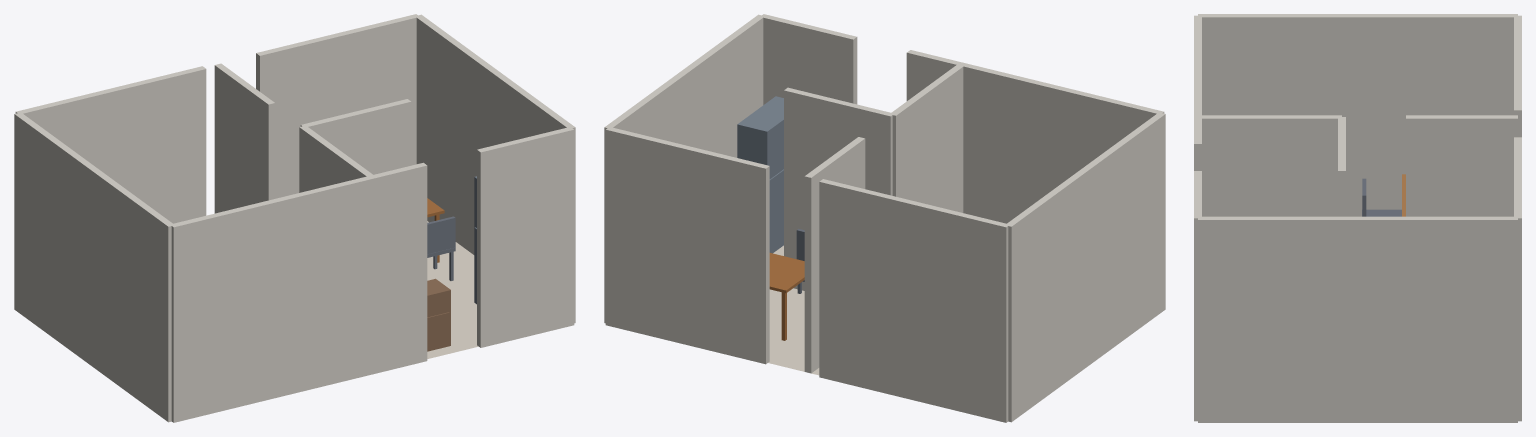
3 renders of one model, left to right at view 1: azimuth 30°, elevation 25°; view 2: azimuth 150°, elevation 25°; view 3: azimuth 270°, elevation 25°, orthographic. The views are drawn at different scales.
Parts seen in each view (by area): view 1: wall_4, wall_5, wall_3, wall_0, wall_2, wall_1, wall_6, wall_8, floor, wall_7, furniture_sideboard, furniture_chair; view 2: wall_0, wall_1, wall_5, wall_4, wall_2, wall_8, wall_7, wall_3, wall_6, furniture_cabinet, floor, furniture_table_l; view 3: wall_2, wall_5, wall_7, wall_6, wall_1, wall_4, wall_3, wall_0, wall_8, furniture_chair.
Part boxes in pixels (left/top/right/bottom): wall_4: left=170, top=162, right=427, bottom=422; wall_5: left=14, top=112, right=172, bottom=422; wall_3: left=477, top=127, right=574, bottom=347; wall_0: left=15, top=66, right=206, bottom=223; wall_2: left=416, top=14, right=575, bottom=323; wall_1: left=256, top=14, right=419, bottom=198; wall_6: left=214, top=63, right=275, bottom=213; wall_8: left=300, top=99, right=411, bottom=174; floor: left=427, top=221, right=478, bottom=358; wall_7: left=299, top=126, right=372, bottom=192; furniture_sideboard: left=427, top=278, right=450, bottom=351; furniture_chair: left=427, top=216, right=455, bottom=280; wall_0: left=819, top=179, right=1009, bottom=422; wall_1: left=605, top=127, right=769, bottom=364; wall_5: left=1007, top=113, right=1165, bottom=422; wall_4: left=906, top=50, right=1164, bottom=223; wall_2: left=604, top=14, right=764, bottom=323; wall_8: left=784, top=87, right=892, bottom=290; wall_7: left=889, top=65, right=963, bottom=212; wall_3: left=760, top=14, right=857, bottom=104; wall_6: left=804, top=137, right=865, bottom=373; furniture_cabinet: left=737, top=96, right=783, bottom=253; floor: left=768, top=245, right=819, bottom=375; furniture_table_l: left=769, top=253, right=804, bottom=340; wall_2: left=1198, top=216, right=1517, bottom=422; wall_5: left=1198, top=14, right=1517, bottom=216; wall_7: left=1202, top=115, right=1341, bottom=216; wall_6: left=1406, top=115, right=1517, bottom=216; wall_1: left=1514, top=137, right=1521, bottom=421; wall_4: left=1194, top=15, right=1201, bottom=170; wall_3: left=1194, top=171, right=1201, bottom=421; wall_0: left=1514, top=15, right=1521, bottom=137; wall_8: left=1338, top=117, right=1345, bottom=216; furniture_chair: left=1362, top=178, right=1401, bottom=216.
Size of the model in its own units: 6.1 by 2.8 by 4.1.
